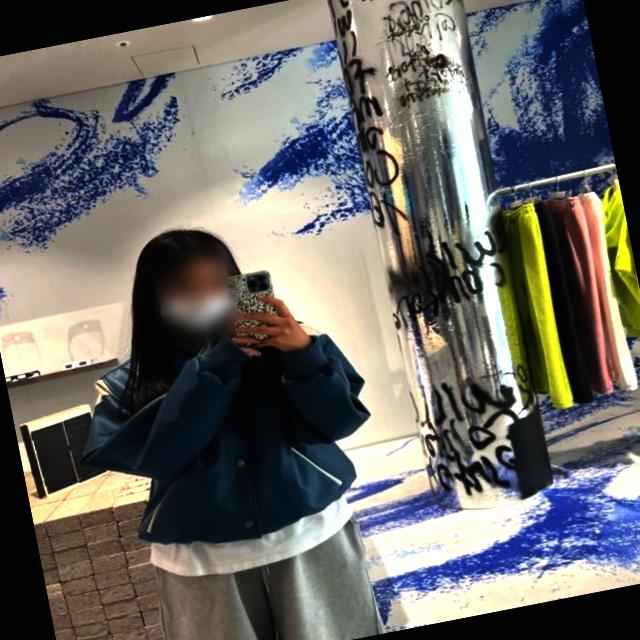jacket: (64, 309, 394, 570)
trainingpants: (148, 509, 386, 640)
